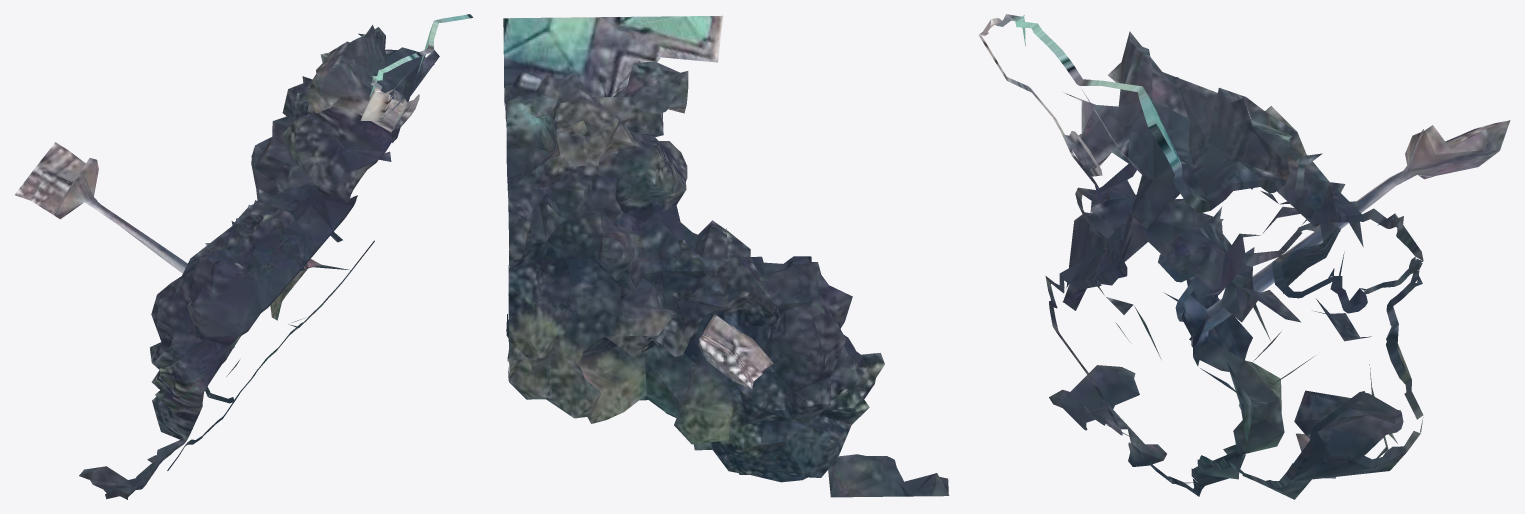
The picture shows the model from 3 angles, left to right: view 1: azimuth 30°, elevation 25°; view 2: azimuth 150°, elevation 25°; view 3: azimuth 270°, elevation 25°; orthographic projection. The views are drawn at different scales.
Bounding box in the file's own units: 39.66 × 35.78 × 29.76.
2 materials, 2 textured.
